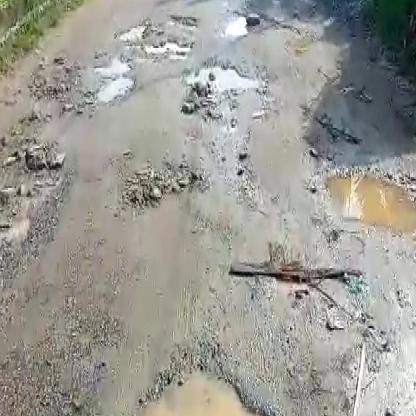pothole: (134, 361, 279, 416), (329, 158, 416, 228), (177, 60, 266, 114), (0, 133, 64, 205), (86, 60, 137, 103), (143, 41, 195, 56), (224, 9, 248, 39), (114, 23, 146, 42), (168, 13, 200, 28)
